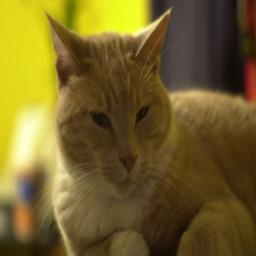catnose: (118, 153, 139, 173)
